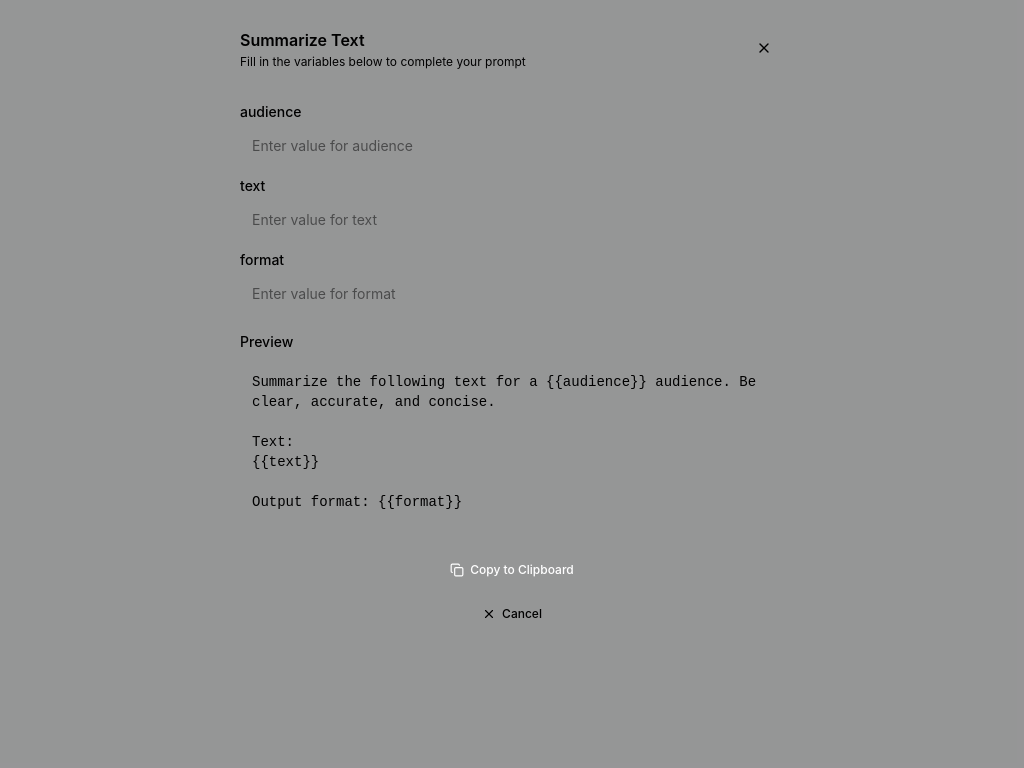
Test case: VariableFillModal › updates preview when variable values are filled
Type "developers" into the field named "Value for variable audience" at (512, 146), box top-left (240, 128), bottom-right (784, 164)
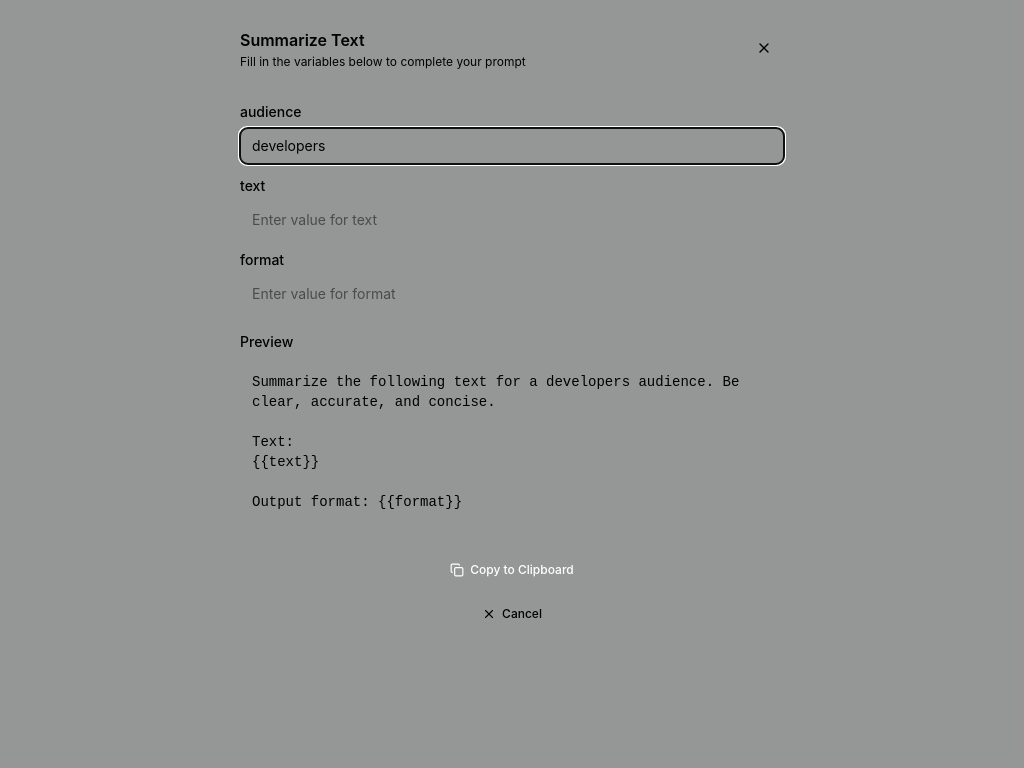
Expected: the text named "Rendered prompt preview" shows "developers", top-left (252, 374), bottom-right (748, 510)
Expected: the text labelled "Rendered prompt preview" no longer shows "{{audience}}"
